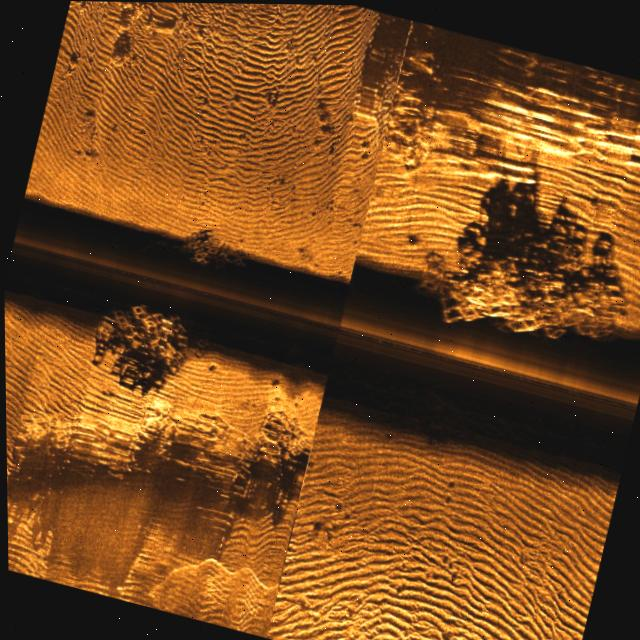artificial reef: (415, 203, 634, 365), (87, 289, 251, 395), (169, 219, 270, 286)
